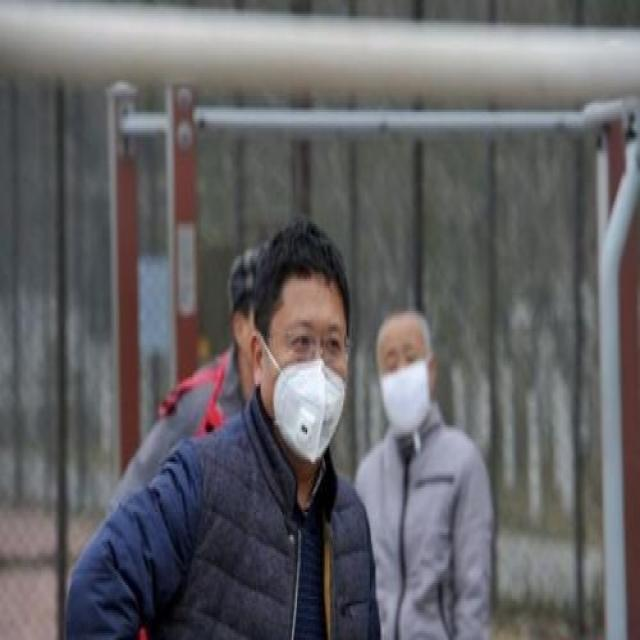mask: (264, 278, 345, 458), (378, 321, 428, 429)
